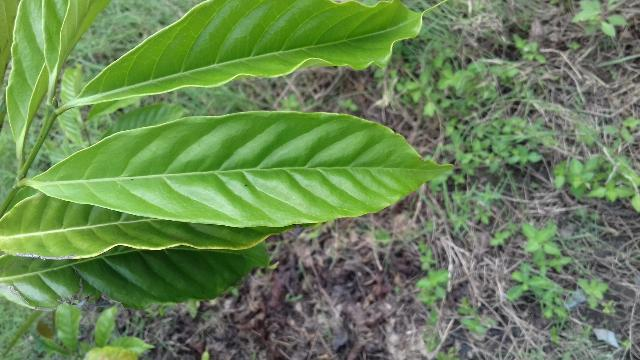healthy: (27, 111, 453, 227)
